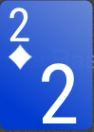Diamond: (8, 44, 33, 71)
